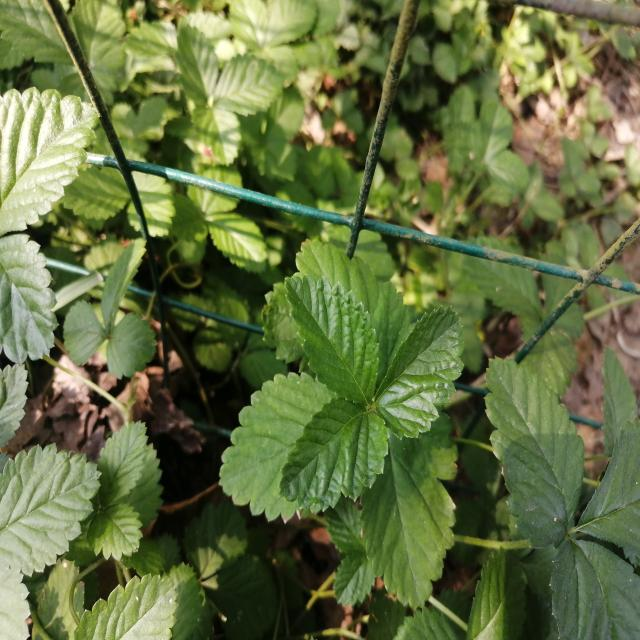Mock_strawberry: (270, 260, 461, 518)
